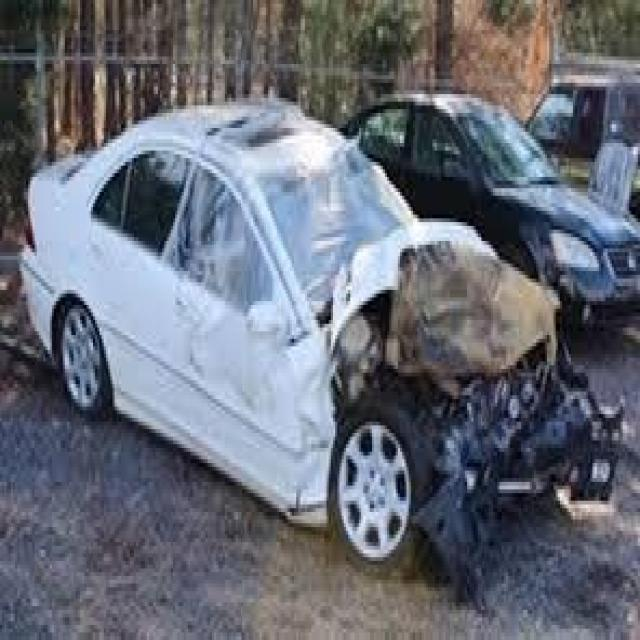damaged: (392, 226, 618, 584), (168, 109, 388, 388)
